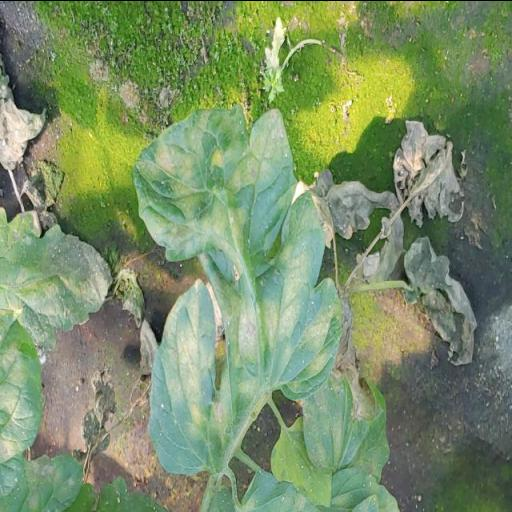disease_tomato: (132, 102, 344, 474), (0, 204, 117, 343)
